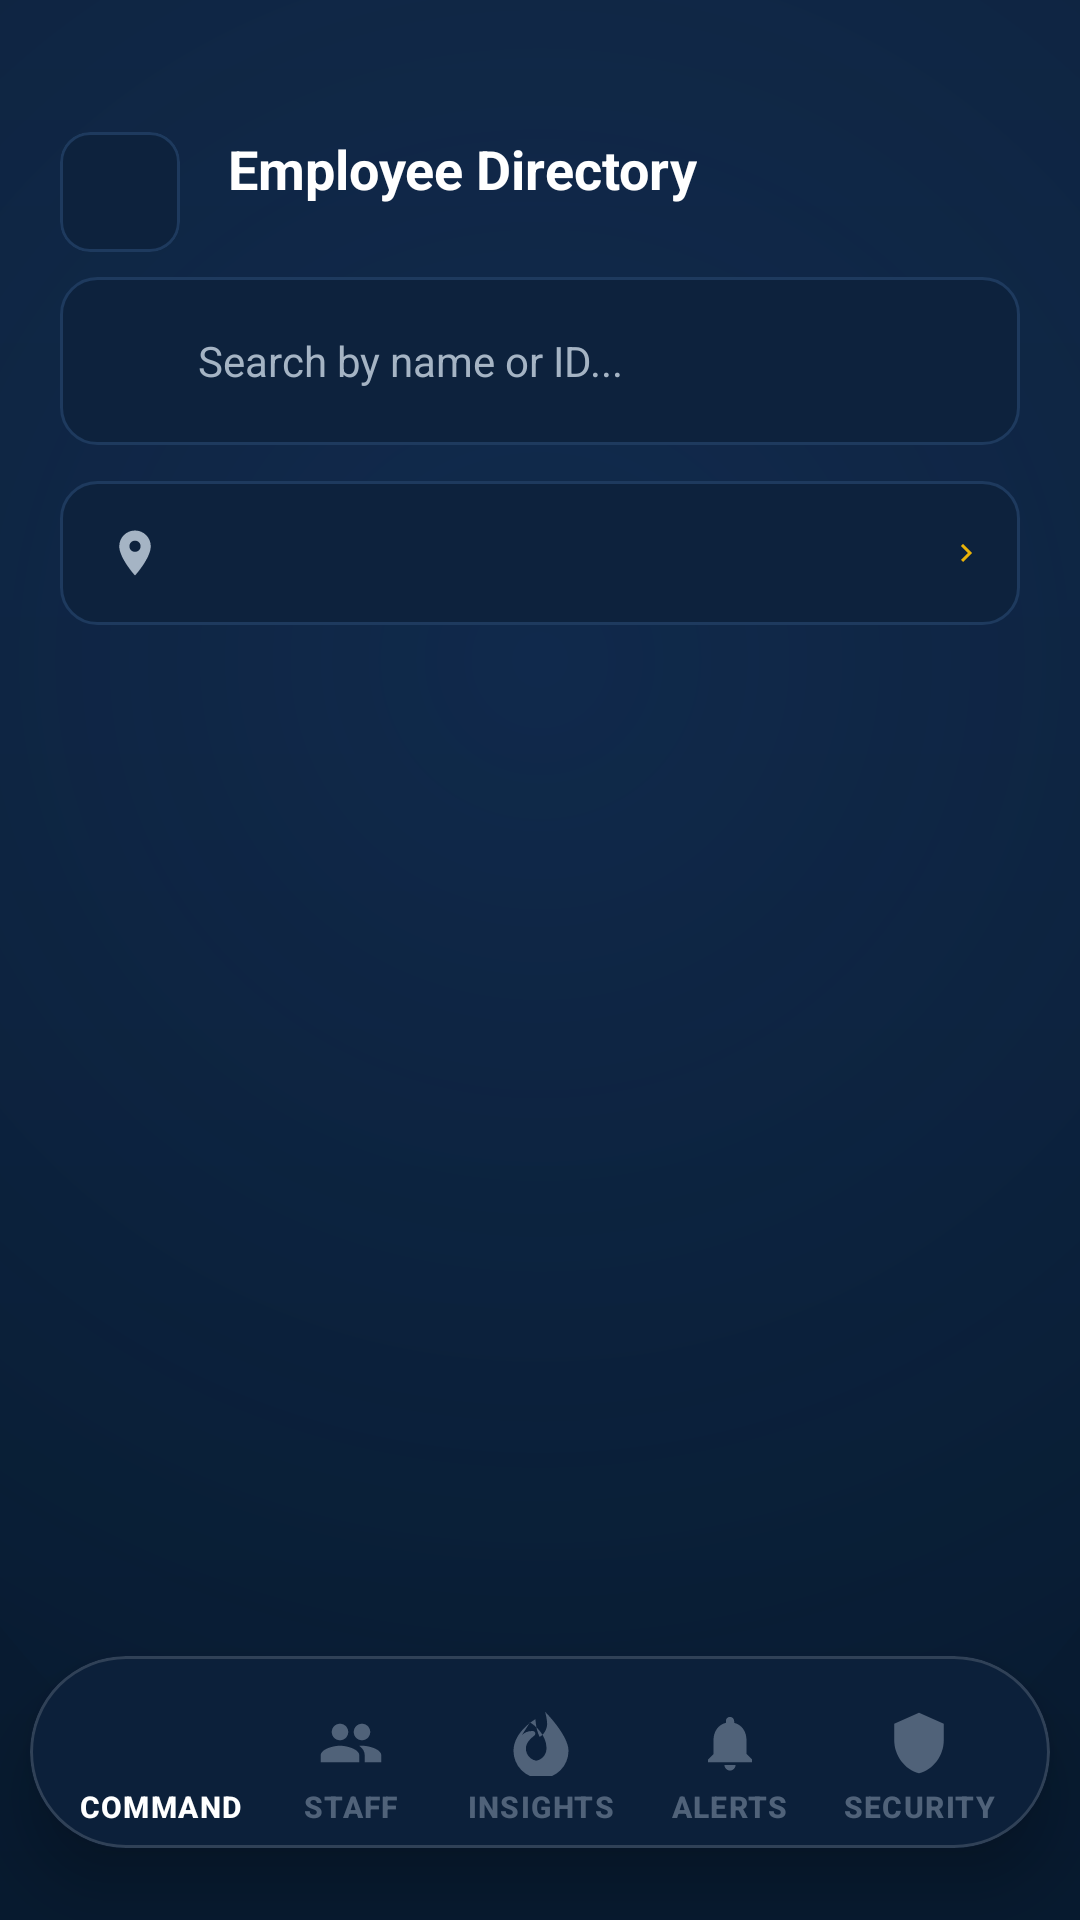

Named icons in this screenshot (1080*1920) and their bounding boxes, (x1, y1, x2, y2):
location pin: (119, 530, 151, 575)
